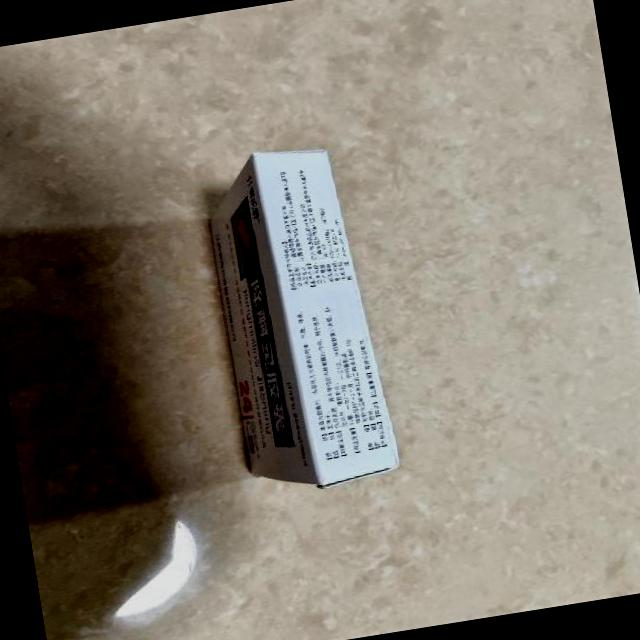box: (200, 138, 402, 500)
